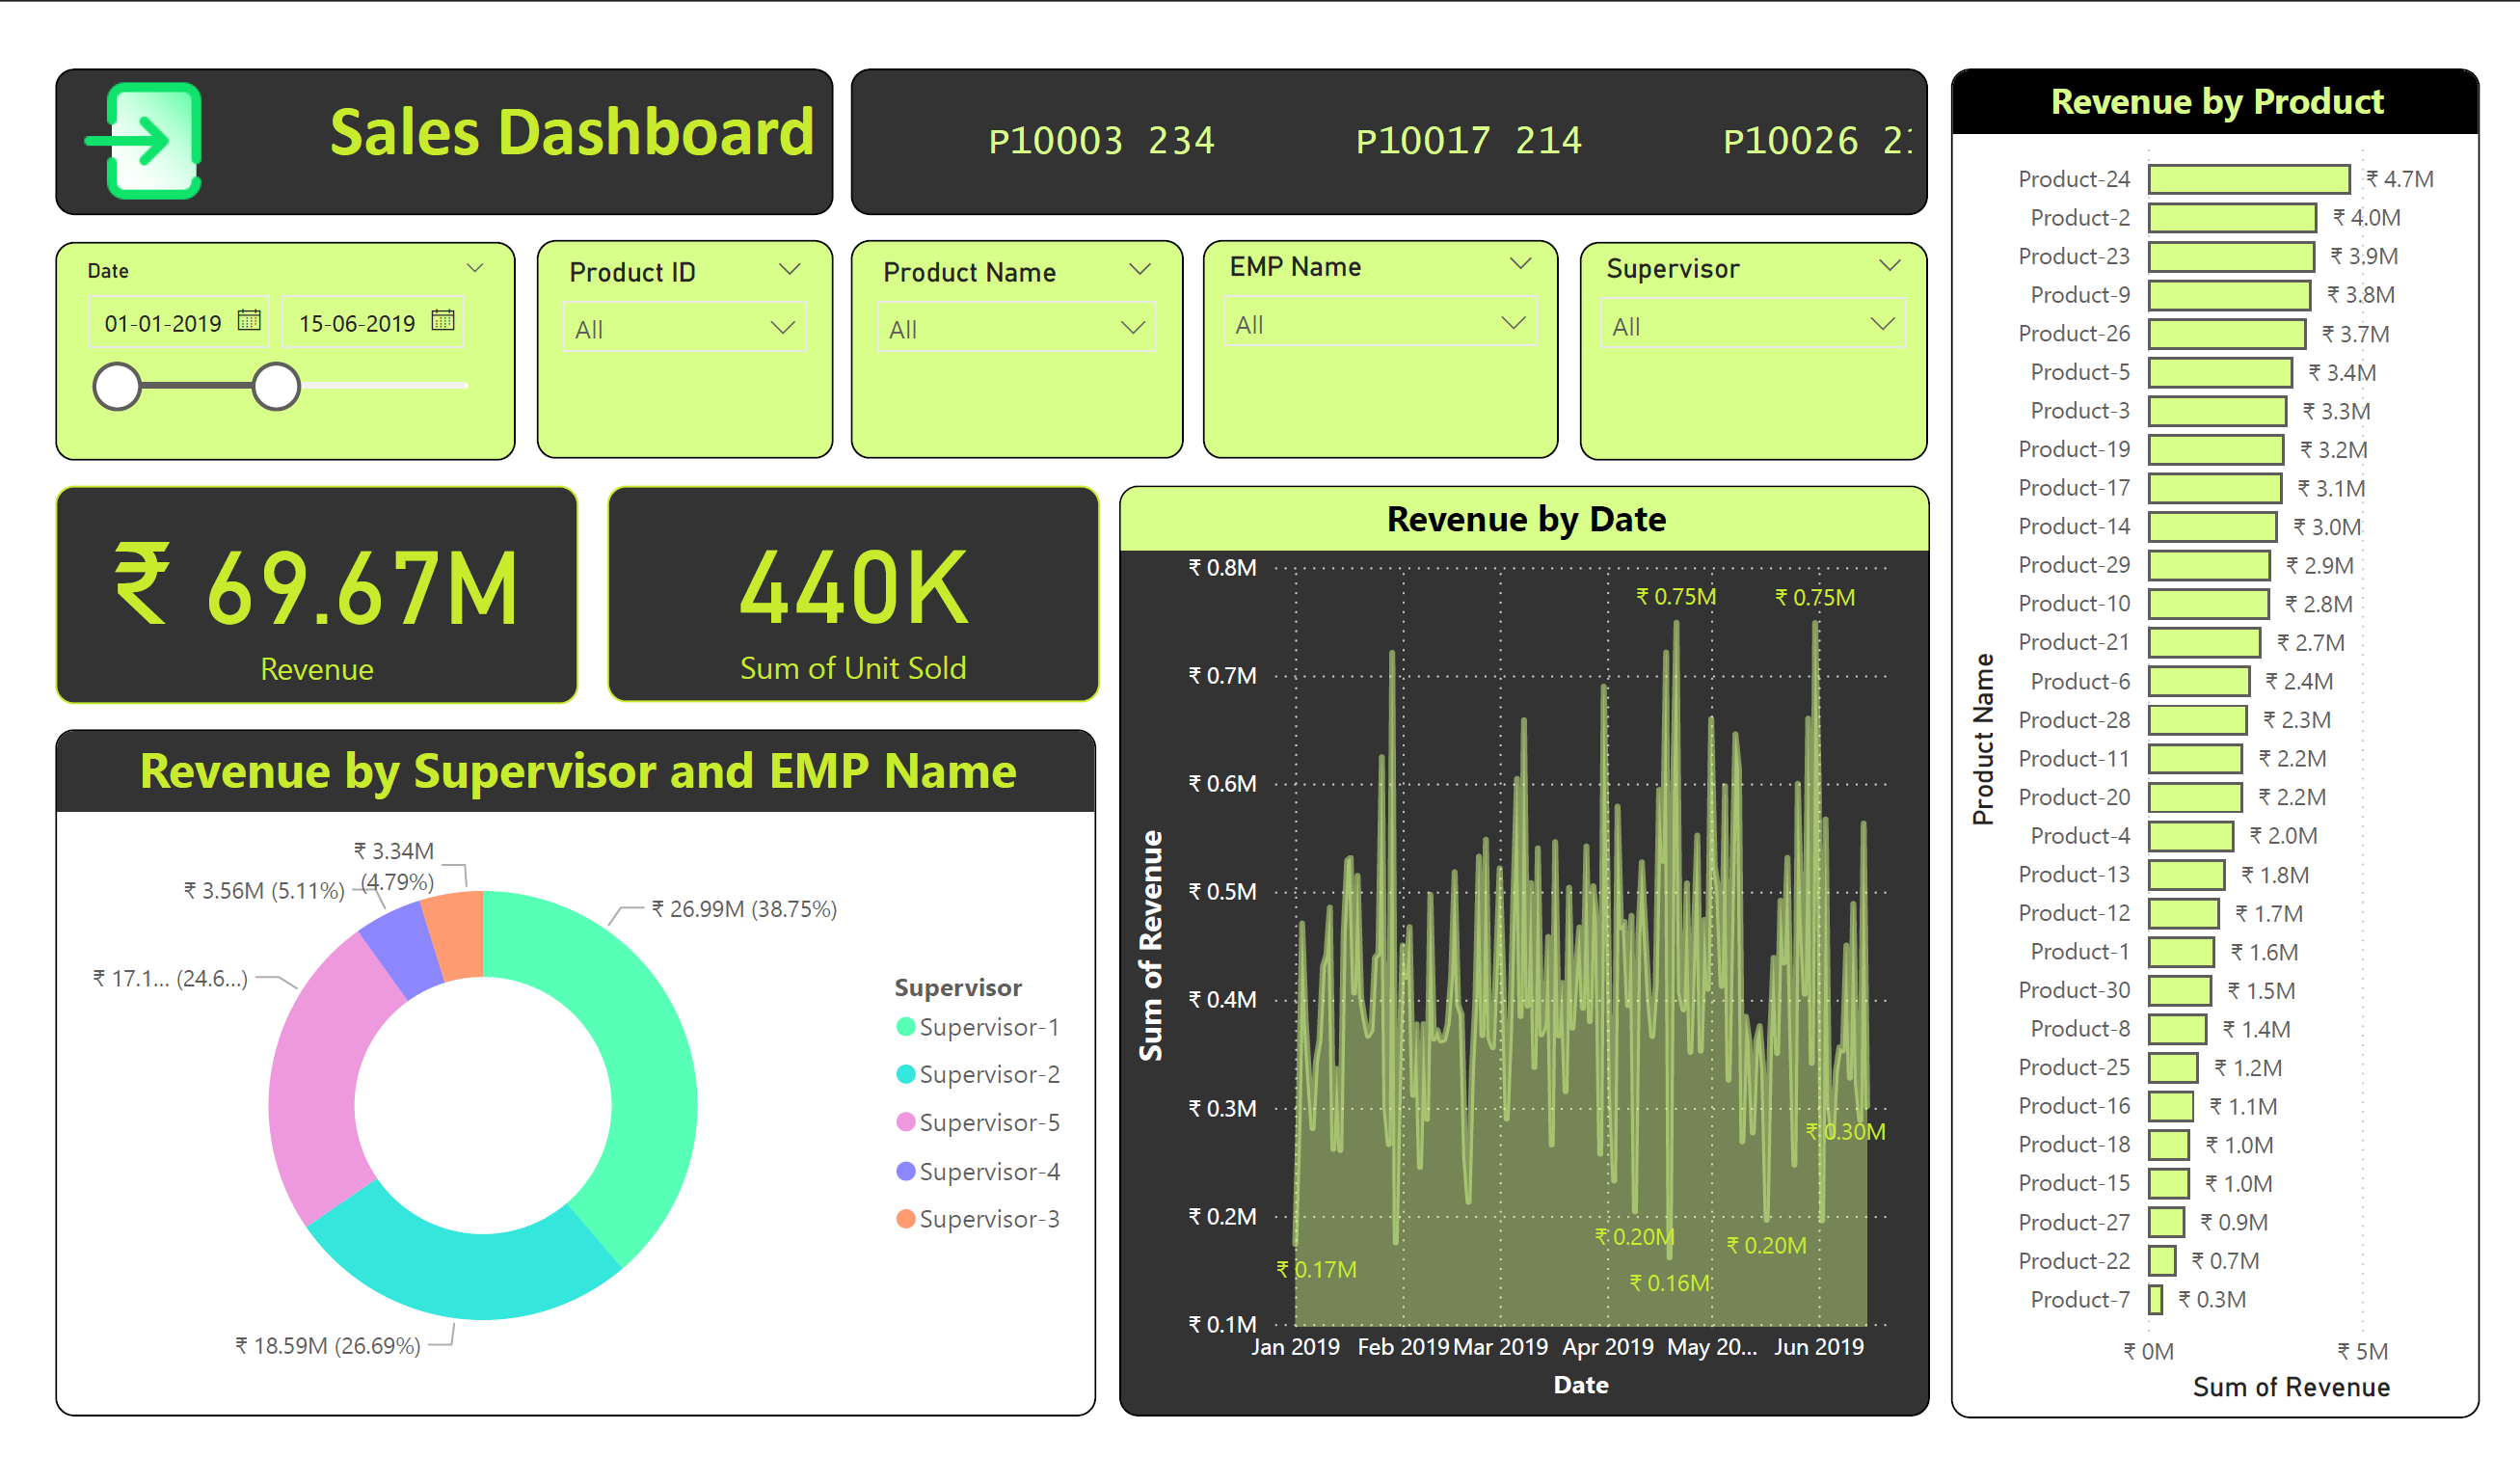

This screenshot's page, from the dashboard's own definition file:
{"tool":"powerbi","page":{"name":"Sales Dashboard","canvas":[1280,720],"ordinal":0},"visuals":[{"type":"textbox","box":[6,10.6,408.7,77],"z":0},{"type":"slicer","fields":{"Values":["Sales Data.Date"]},"box":[5.5,102.4,242.2,114.7],"z":1000},{"type":"slicer","fields":{"Values":["Sales Data.Product ID"]},"box":[258.7,100.9,156.2,114.8],"z":2000},{"type":"slicer","fields":{"Values":["Product Master.Product Name"]},"box":[424,100.9,174.5,114.8],"z":3000},{"type":"slicer","fields":{"Values":["Emp Master.EMP Name"]},"box":[609.3,100.9,186.8,114.8],"z":4000},{"type":"slicer","fields":{"Values":["Emp Master.Supervisor"]},"box":[807.4,102.4,182.3,114.7],"z":5000},{"type":"card","fields":{"Values":["Sum(Sales Data.Revenue)"]},"box":[5.5,229.9,275.4,114.7],"z":6000},{"type":"card","fields":{"Values":["Sum(Sales Data.Unit Sold)"]},"box":[295.8,229.5,258.8,114.8],"z":7000},{"type":"donutChart","title":"Revenue by Supervisor and EMP Name","fields":{"Category":["Emp Master.Supervisor","Emp Master.EMP Name"],"Y":["Sum(Sales Data.Revenue)"],"Series":["Emp Master.Supervisor"]},"box":[6.1,358.2,546.6,361.3],"z":8000},{"type":"areaChart","title":"Revenue by Date","fields":{"Category":["Sales Data.Date"],"Y":["Sum(Sales Data.Revenue)"]},"box":[565.2,229.9,425.8,489.6],"z":9000},{"type":"barChart","title":"Revenue by Product","fields":{"Category":["Product Master.Product Name"],"Y":["Sum(Sales Data.Revenue)"]},"box":[1001.6,10.6,278.4,709.2],"z":10000},{"type":"ScrollingTextVisual1448795304508","fields":{"Category":["Product Master.Product ID"],"Measure Absolute":["Sum(Product Master.Price per unit)"]},"box":[424.3,10.6,565.9,77],"z":11000},{"type":"image","box":[6.2,3.1,91.8,91.8],"z":12001}]}

Visuals, with their boxes in screenshot pixels (x1, y1, x2, y2), scaled from the page's 1280x720 canvas onto the 2520x1457 screenshot:
textbox: crop(12, 21, 817, 177)
slicer - Sales Data.Date: crop(11, 207, 488, 440)
slicer - Sales Data.Product ID: crop(509, 204, 817, 437)
slicer - Product Master.Product Name: crop(835, 204, 1178, 437)
slicer - Emp Master.EMP Name: crop(1199, 204, 1568, 437)
slicer - Emp Master.Supervisor: crop(1590, 207, 1948, 440)
card - Sum(Sales Data.Revenue): crop(11, 465, 553, 697)
card - Sum(Sales Data.Unit Sold): crop(582, 465, 1092, 697)
"Revenue by Supervisor and EMP Name" donutChart: crop(12, 725, 1088, 1456)
"Revenue by Date" areaChart: crop(1113, 465, 1951, 1456)
"Revenue by Product" barChart: crop(1971, 21, 2519, 1456)
ScrollingTextVisual1448795304508 - Product Master.Product ID x Sum(Product Master.Price per unit): crop(836, 21, 1949, 177)
image: crop(13, 7, 193, 192)
